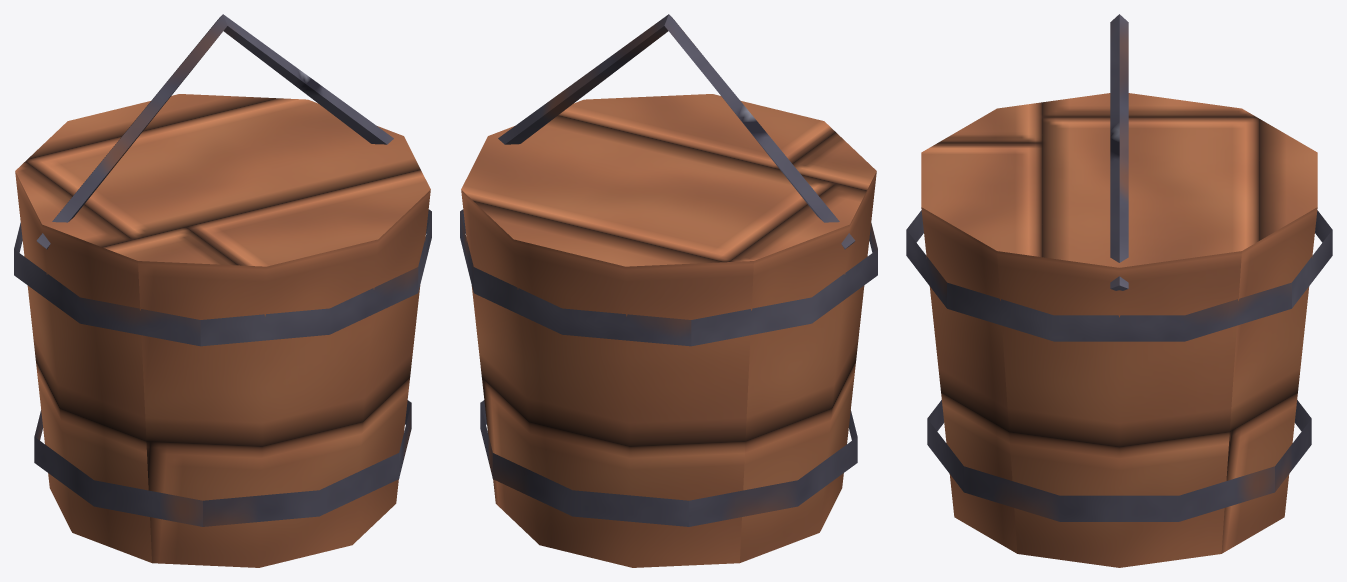
File: bucket.gltf
3 renders of one model, left to right at view 1: azimuth 30°, elevation 25°; view 2: azimuth 150°, elevation 25°; view 3: azimuth 270°, elevation 25°, orthographic.
Visible parts, largest first — view 1: bucket_mesh; view 2: bucket_mesh; view 3: bucket_mesh.
Part boxes in pixels (x1,y1,x2,y2): bucket_mesh: [14, 14, 431, 567]; bucket_mesh: [460, 14, 877, 567]; bucket_mesh: [906, 14, 1332, 567].
Size of the model in its own units: 0.371 by 0.458 by 0.368.
Materials: 3 (2 with a texture image).
